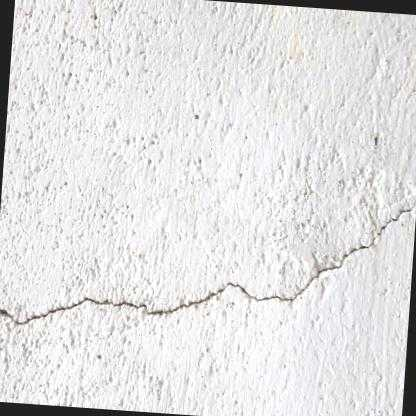crack: (0, 196, 416, 323)
